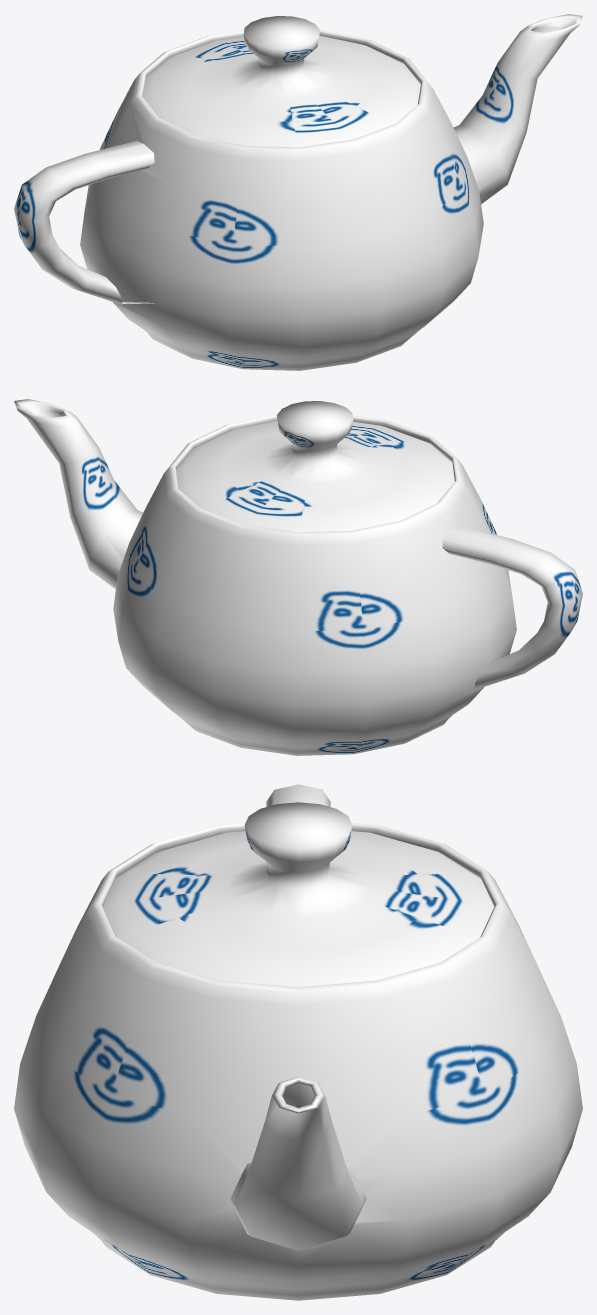
Rendered from tpot.fbx.
3 renders of one model, top to bottom at view 1: azimuth 30°, elevation 25°; view 2: azimuth 150°, elevation 25°; view 3: azimuth 270°, elevation 25°, orthographic. The views are drawn at different scales.
Visible parts, largest first — view 1: tpot-convexHull; view 2: tpot-convexHull; view 3: tpot-convexHull.
Boxes of the visible parts, x1,y1,x2,y2 form: tpot-convexHull: (14, 14, 582, 370); tpot-convexHull: (14, 399, 582, 755); tpot-convexHull: (14, 784, 582, 1300).
Bounding box in the file's own units: 163 × 102 × 80.01.
1 material, 1 textured.
